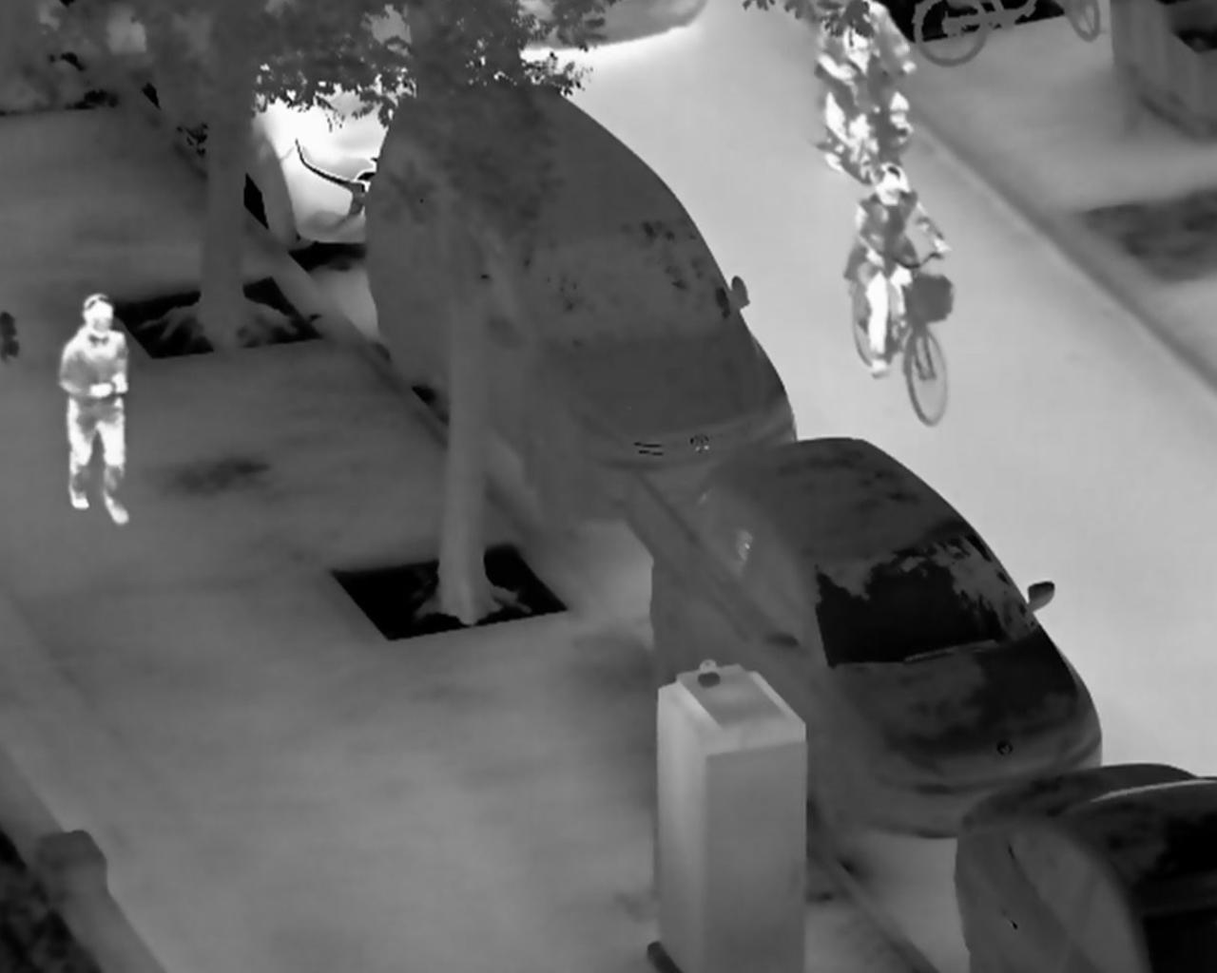person: (852, 161, 953, 377), (56, 294, 128, 526)
